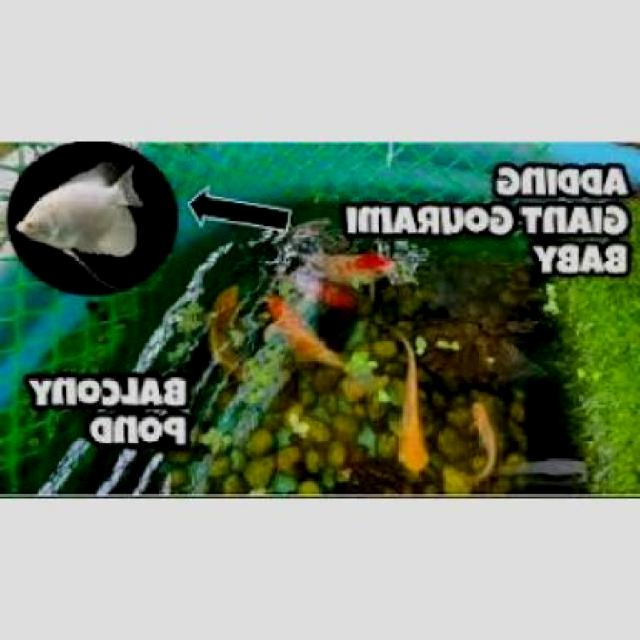gurame: (15, 158, 144, 276)
